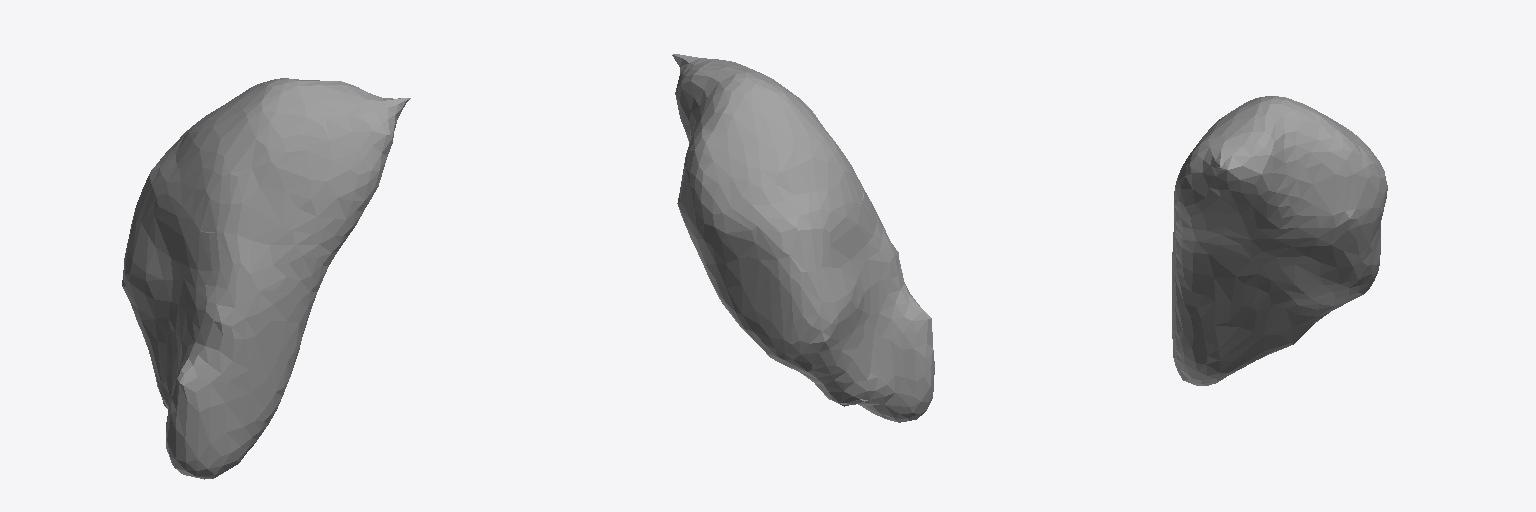
Rendered from L-Amygdala.obj.
3 views of the same model, side by side, from view 1: azimuth 30°, elevation 25°; view 2: azimuth 150°, elevation 25°; view 3: azimuth 270°, elevation 25° (orthographic).
Visible parts, largest first — view 1: L-amygdala_amygdala.001; view 2: L-amygdala_amygdala.001; view 3: L-amygdala_amygdala.001.
Part boxes in pixels (left/top/right/bottom): L-amygdala_amygdala.001: left=122, top=78, right=410, bottom=479; L-amygdala_amygdala.001: left=672, top=54, right=934, bottom=422; L-amygdala_amygdala.001: left=1172, top=96, right=1387, bottom=385.
Size of the model in its own units: 22.22 by 28.64 by 16.52.